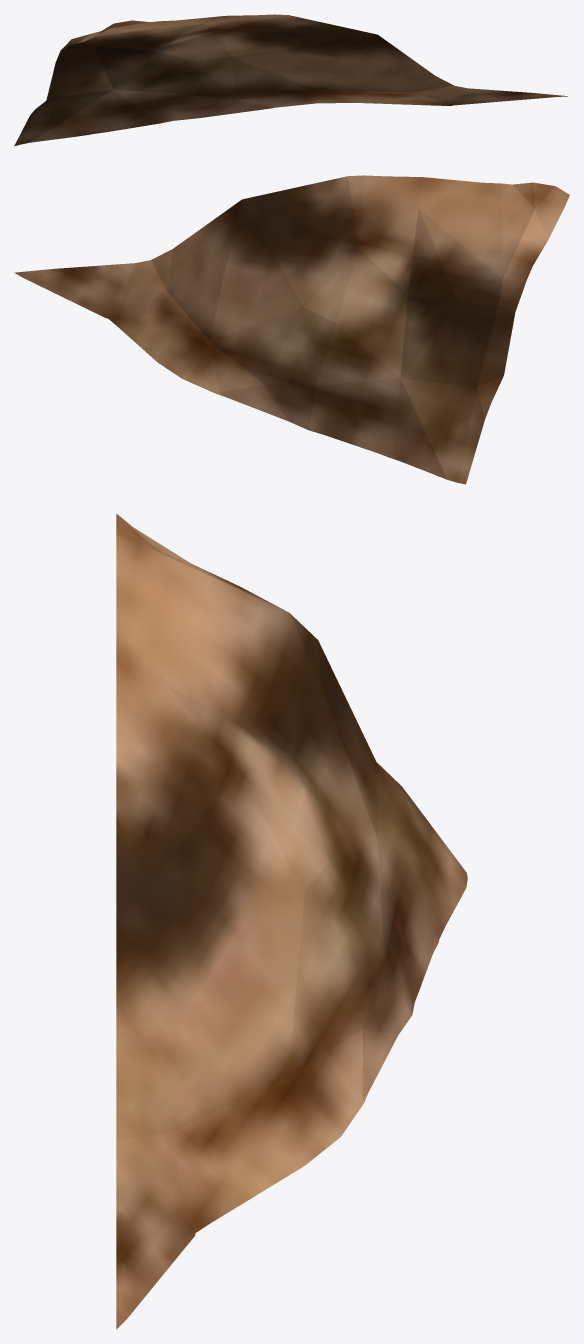
The picture shows the model from 3 angles, top to bottom: view 1: azimuth 30°, elevation 25°; view 2: azimuth 150°, elevation 25°; view 3: azimuth 270°, elevation 25°; orthographic projection. The views are drawn at different scales.
Size of the model in its own units: 0.2353 by 0.0884 by 0.0765.
Materials: 1 (1 with a texture image).
